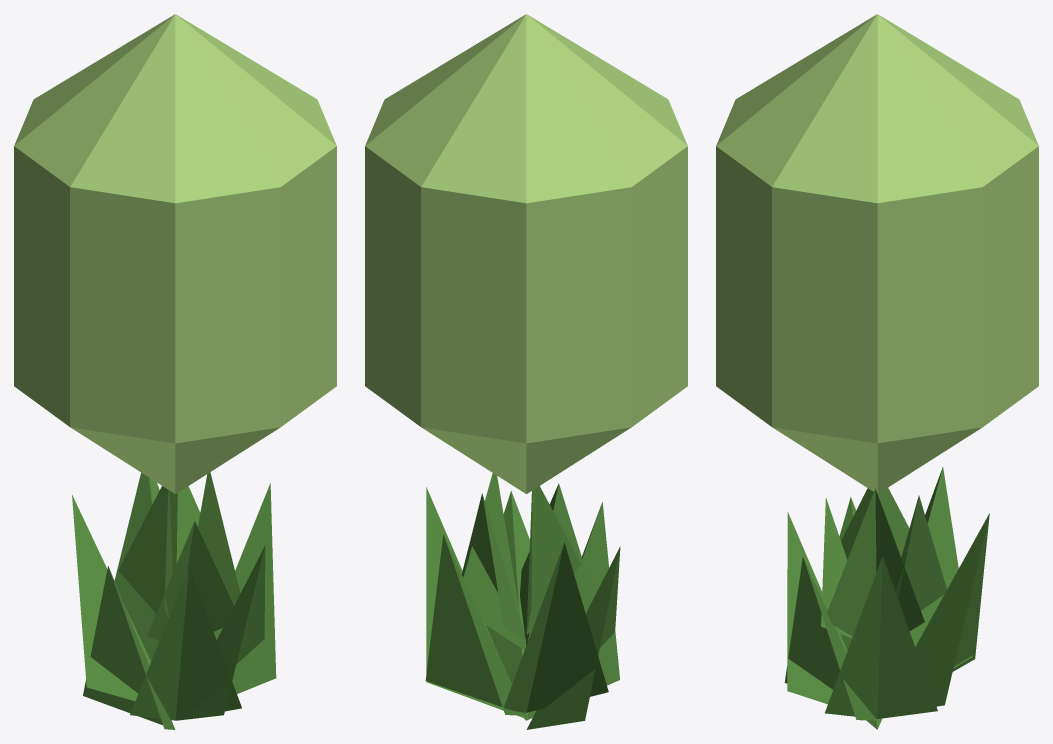
The model's file is crop_cabbage.glb.
3 views of the same model, side by side, from view 1: azimuth 30°, elevation 25°; view 2: azimuth 150°, elevation 25°; view 3: azimuth 270°, elevation 25° (orthographic).
Visible parts, largest first — view 1: crop_cabbage; view 2: crop_cabbage; view 3: crop_cabbage.
Part boxes in pixels (x1=…): crop_cabbage: x1=14, y1=14, x2=336, y2=729; crop_cabbage: x1=365, y1=14, x2=687, y2=729; crop_cabbage: x1=716, y1=14, x2=1038, y2=729.
Size of the model in its own units: 0.4025 by 1 by 0.4087.
